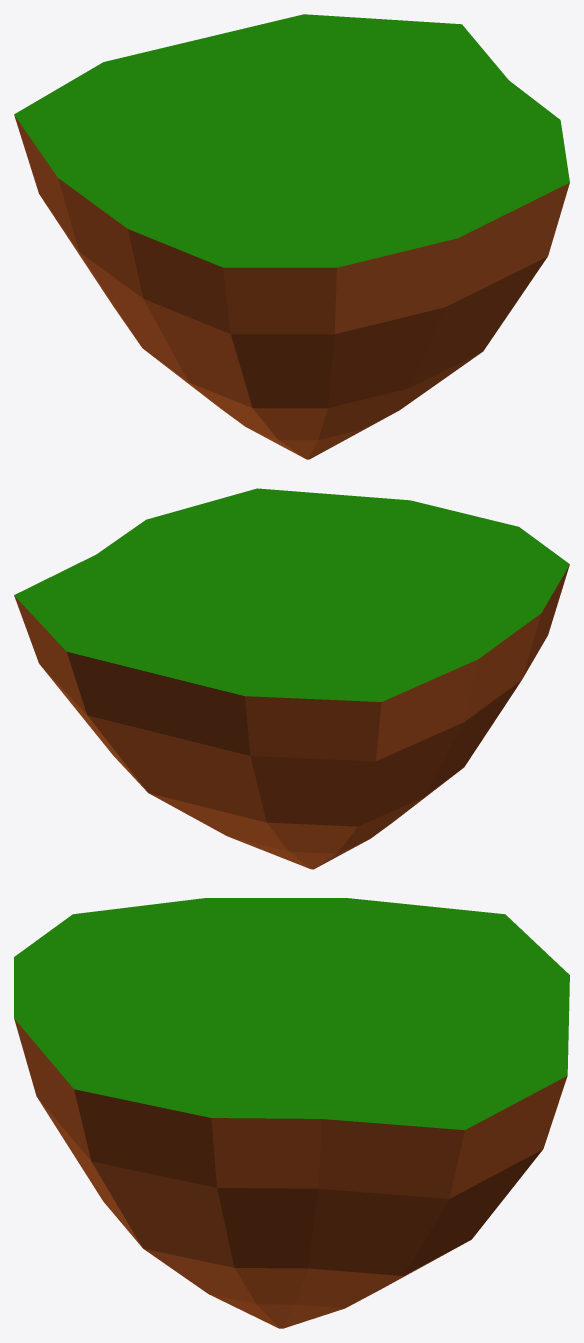
File: little float islands.fbx
3 views of the same model, one above another, from view 1: azimuth 30°, elevation 25°; view 2: azimuth 150°, elevation 25°; view 3: azimuth 270°, elevation 25° (orthographic). The views are drawn at different scales.
Parts seen in each view (by area): view 1: grass, earth; view 2: grass, earth; view 3: grass, earth.
Boxes of the visible parts, x1,y1,x2,y2 form: grass: (14, 14, 569, 267); earth: (14, 115, 569, 459); grass: (14, 488, 569, 701); earth: (14, 565, 569, 869); grass: (14, 898, 569, 1130); earth: (14, 1018, 567, 1328).
Bounding box in the file's own units: 504 × 324 × 510.
